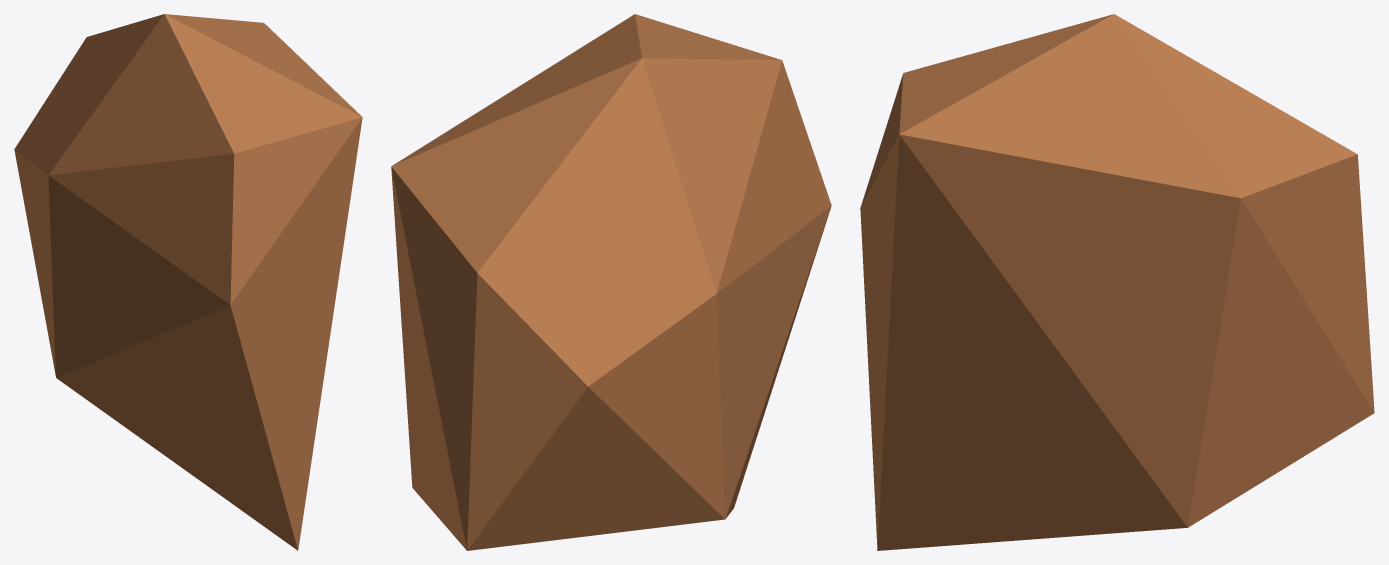
Rendered from Willow_Autumn_2.lod4.glb.
The picture shows the model from 3 angles, left to right: view 1: azimuth 30°, elevation 25°; view 2: azimuth 150°, elevation 25°; view 3: azimuth 270°, elevation 25°; orthographic projection. The views are drawn at different scales.
Visible parts, largest first — view 1: Willow_Autumn_2; view 2: Willow_Autumn_2; view 3: Willow_Autumn_2.
Boxes of the visible parts, x1,y1,x2,y2 form: Willow_Autumn_2: (14,14,362,550); Willow_Autumn_2: (391,14,831,550); Willow_Autumn_2: (860,14,1374,550).
Bounding box in the file's own units: 1.98 × 3.5 × 3.12.
